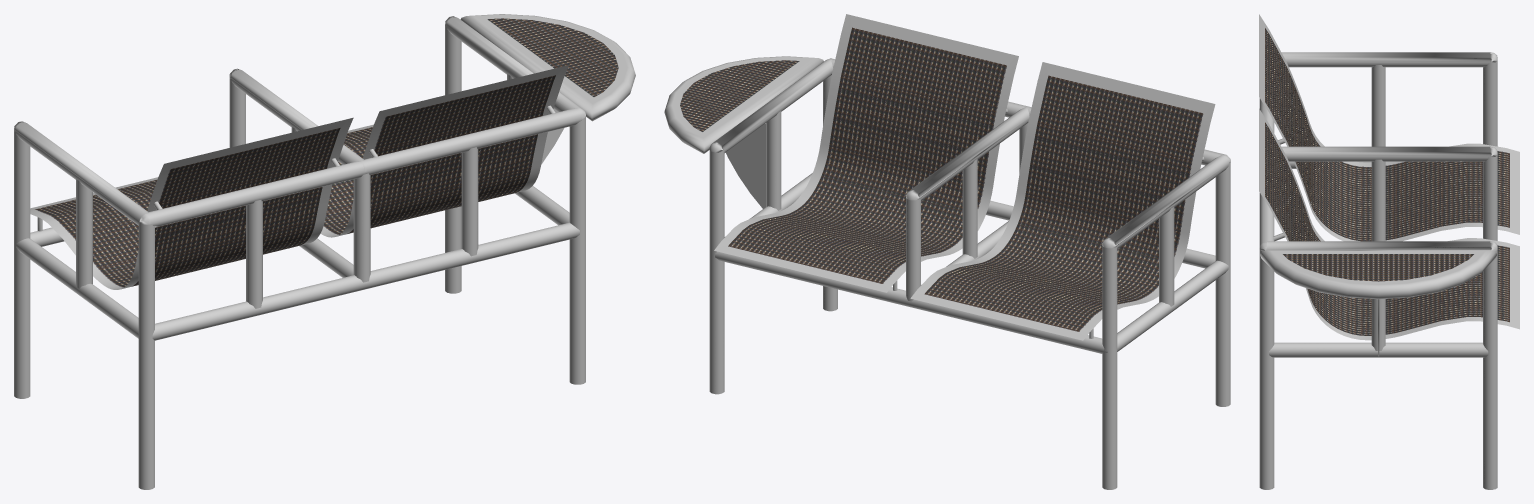
The picture shows the model from 3 angles, left to right: view 1: azimuth 30°, elevation 25°; view 2: azimuth 150°, elevation 25°; view 3: azimuth 270°, elevation 25°; orthographic projection. The views are drawn at different scales.
Visible parts, largest first — view 1: mesh9_mesh9-geometry, mesh1_mesh1-geometry, mesh5_mesh5-geometry, mesh11_mesh11-geometry, mesh12_mesh12-geometry, mesh6_mesh6-geometry, mesh4_mesh4-geometry, mesh3_mesh3-geometry, mesh10_mesh10-geometry; view 2: mesh9_mesh9-geometry, mesh1_mesh1-geometry, mesh5_mesh5-geometry, mesh11_mesh11-geometry, mesh4_mesh4-geometry, mesh6_mesh6-geometry, mesh3_mesh3-geometry, mesh13_mesh13-geometry, mesh10_mesh10-geometry; view 3: mesh9_mesh9-geometry, mesh11_mesh11-geometry, mesh1_mesh1-geometry, mesh4_mesh4-geometry, mesh5_mesh5-geometry, mesh6_mesh6-geometry, mesh3_mesh3-geometry, mesh10_mesh10-geometry, mesh12_mesh12-geometry.
Boxes of the visible parts, <box> form: mesh9_mesh9-geometry: <box>30,65,568,289</box>; mesh1_mesh1-geometry: <box>14,26,585,489</box>; mesh5_mesh5-geometry: <box>16,186,579,340</box>; mesh11_mesh11-geometry: <box>460,14,635,121</box>; mesh12_mesh12-geometry: <box>145,108,581,227</box>; mesh6_mesh6-geometry: <box>76,73,512,308</box>; mesh4_mesh4-geometry: <box>14,68,366,225</box>; mesh3_mesh3-geometry: <box>445,16,585,118</box>; mesh10_mesh10-geometry: <box>229,79,245,147</box>; mesh9_mesh9-geometry: <box>714,14,1215,340</box>; mesh1_mesh1-geometry: <box>709,75,1230,489</box>; mesh5_mesh5-geometry: <box>715,173,1228,353</box>; mesh11_mesh11-geometry: <box>664,56,823,153</box>; mesh4_mesh4-geometry: <box>906,106,1230,248</box>; mesh6_mesh6-geometry: <box>766,111,1174,306</box>; mesh3_mesh3-geometry: <box>709,58,833,152</box>; mesh13_mesh13-geometry: <box>726,123,765,208</box>; mesh10_mesh10-geometry: <box>906,198,920,301</box>; mesh9_mesh9-geometry: <box>1259,14,1519,340</box>; mesh11_mesh11-geometry: <box>1260,250,1496,299</box>; mesh1_mesh1-geometry: <box>1259,61,1497,489</box>; mesh4_mesh4-geometry: <box>1281,52,1497,161</box>; mesh5_mesh5-geometry: <box>1269,161,1488,357</box>; mesh6_mesh6-geometry: <box>1371,65,1385,350</box>; mesh3_mesh3-geometry: <box>1259,241,1497,250</box>; mesh10_mesh10-geometry: <box>1483,155,1497,240</box>; mesh12_mesh12-geometry: <box>1259,98,1274,247</box>.
Bounding box in the file's own units: 0.8053 × 0.4594 × 0.3747.
